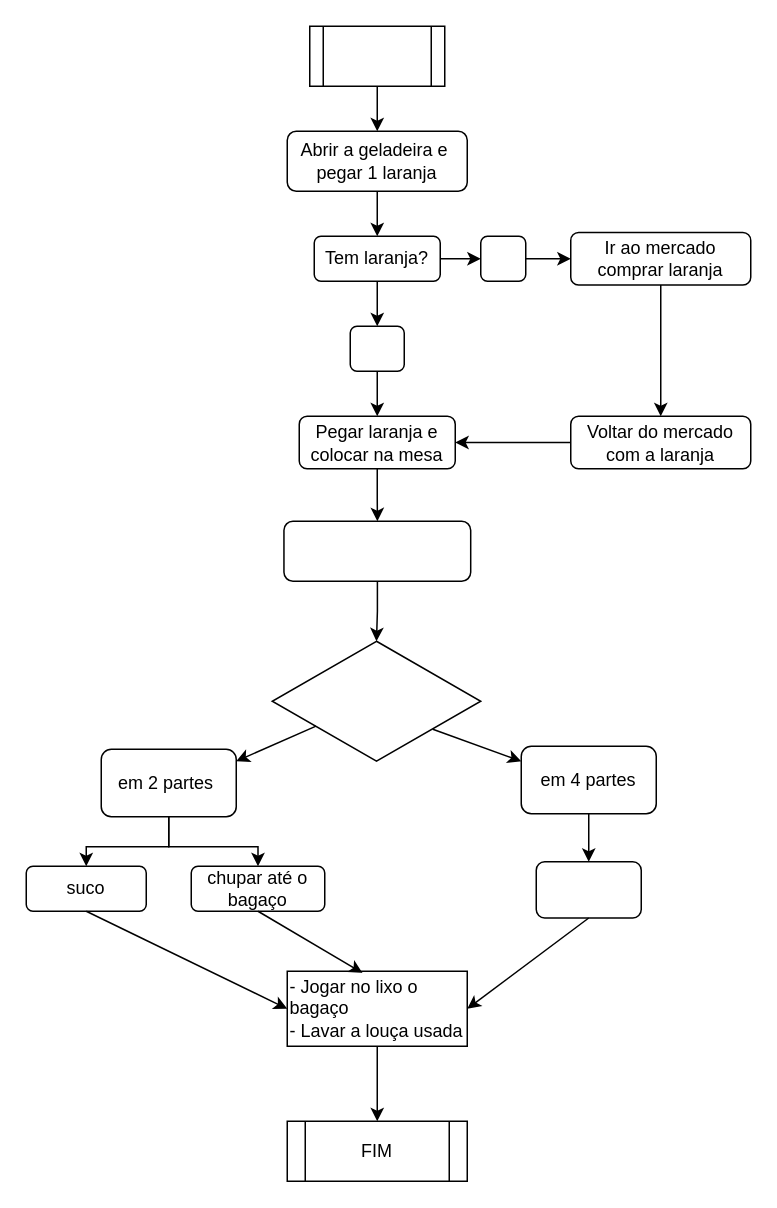
Some shapes in this 777 by 1208 pixel diagram are drawn without their labels. The box of each missing label's shape, as (x1, y1, x2, y2) in pixels:
Abrir gaveta da cozinha e pegar faca: (282, 520, 471, 581)
comer os gomos: (535, 860, 641, 918)
Como quer cortar?: (271, 640, 481, 761)
INÍCIO: (308, 25, 445, 86)
Não: (479, 235, 526, 281)
Sim: (349, 325, 404, 371)
